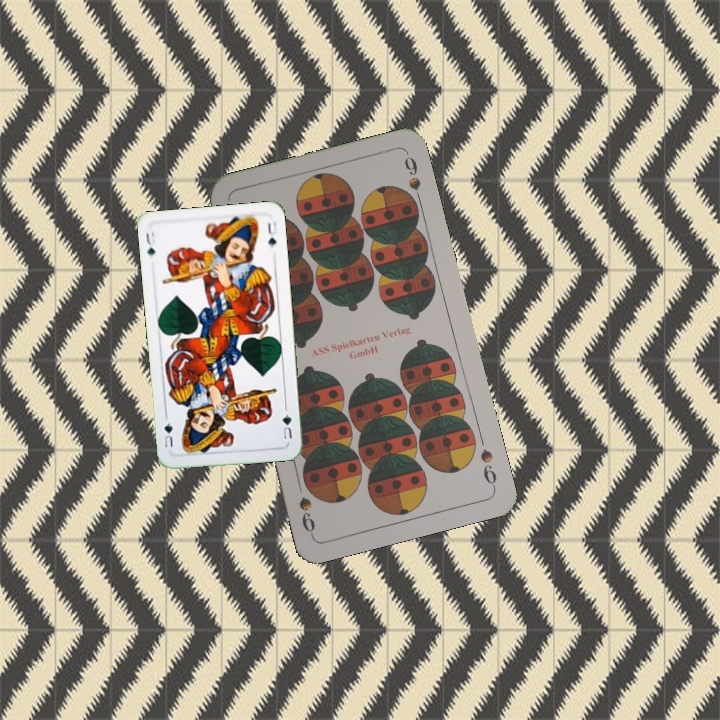GU: (141, 228, 158, 261), (278, 410, 295, 442)
S9: (476, 444, 499, 491)
